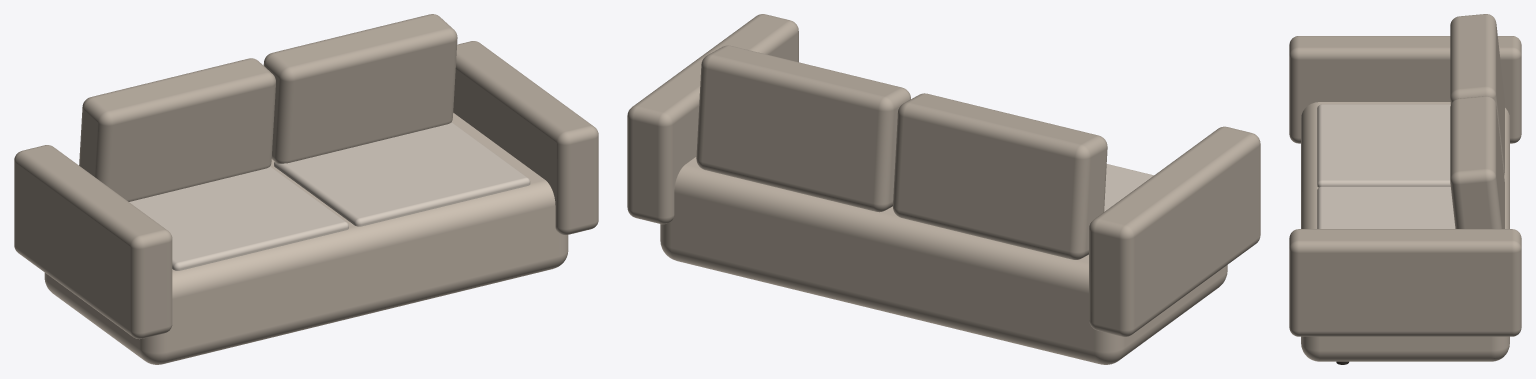
The model's file is summertime.glb.
3 renders of one model, left to right at view 1: azimuth 30°, elevation 25°; view 2: azimuth 150°, elevation 25°; view 3: azimuth 270°, elevation 25°, orthographic. The views are drawn at different scales.
Visible parts, largest first — view 1: seat-base, back-cushion-1, back-cushion-2, arm-left, seat-cushion-2, arm-right, seat-cushion-1; view 2: seat-base, back-cushion-1, back-cushion-2, arm-left, arm-right, seat-cushion-1; view 3: arm-right, arm-left, seat-cushion-1, seat-base, back-cushion-2, seat-cushion-2, back-cushion-1.
Boxes of the visible parts, x1,y1,x2,y2 form: seat-base: [44, 113, 568, 364]; back-cushion-1: [79, 58, 275, 201]; back-cushion-2: [263, 14, 457, 163]; arm-left: [14, 145, 172, 339]; seat-cushion-2: [274, 122, 530, 226]; arm-right: [453, 41, 598, 234]; seat-cushion-1: [129, 166, 348, 270]; seat-base: [660, 157, 1227, 364]; back-cushion-1: [893, 93, 1107, 259]; back-cushion-2: [696, 45, 910, 212]; arm-left: [1089, 126, 1260, 336]; arm-right: [627, 14, 798, 224]; seat-cushion-1: [1104, 164, 1153, 211]; arm-right: [1289, 229, 1521, 336]; arm-left: [1289, 36, 1521, 143]; seat-cushion-1: [1317, 104, 1450, 187]; seat-base: [1301, 102, 1509, 361]; back-cushion-2: [1450, 96, 1504, 228]; seat-cushion-2: [1317, 186, 1455, 228]; back-cushion-1: [1450, 14, 1504, 175].
Bounding box in the file's own units: 1.85 × 0.7604 × 0.86.
